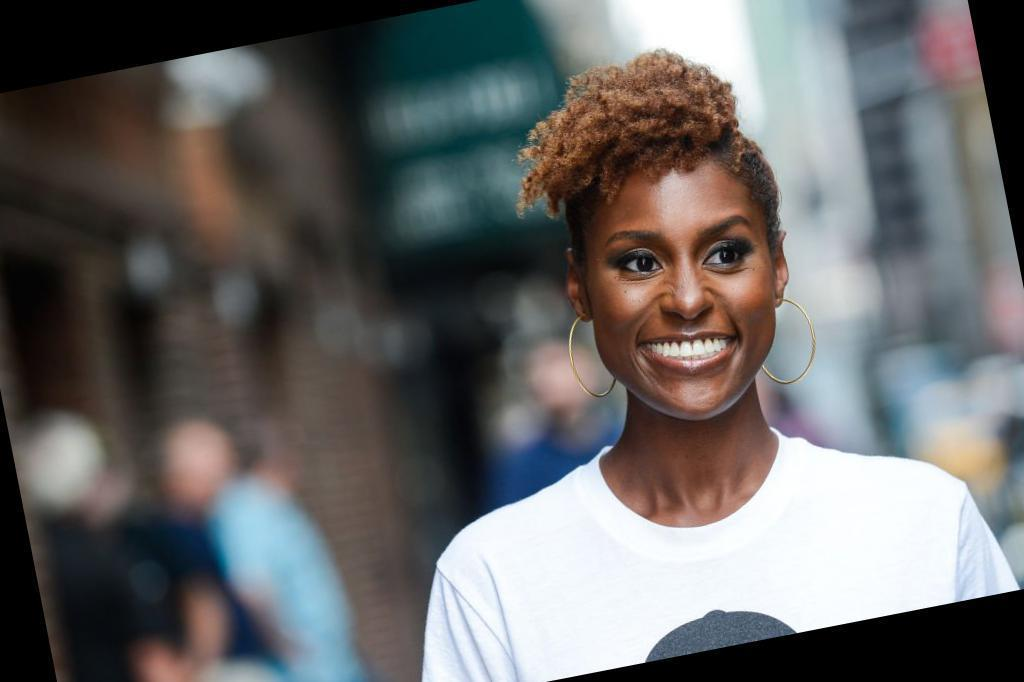Sober: (572, 166, 768, 411)
